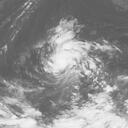cyclone: (36, 16, 100, 85)
